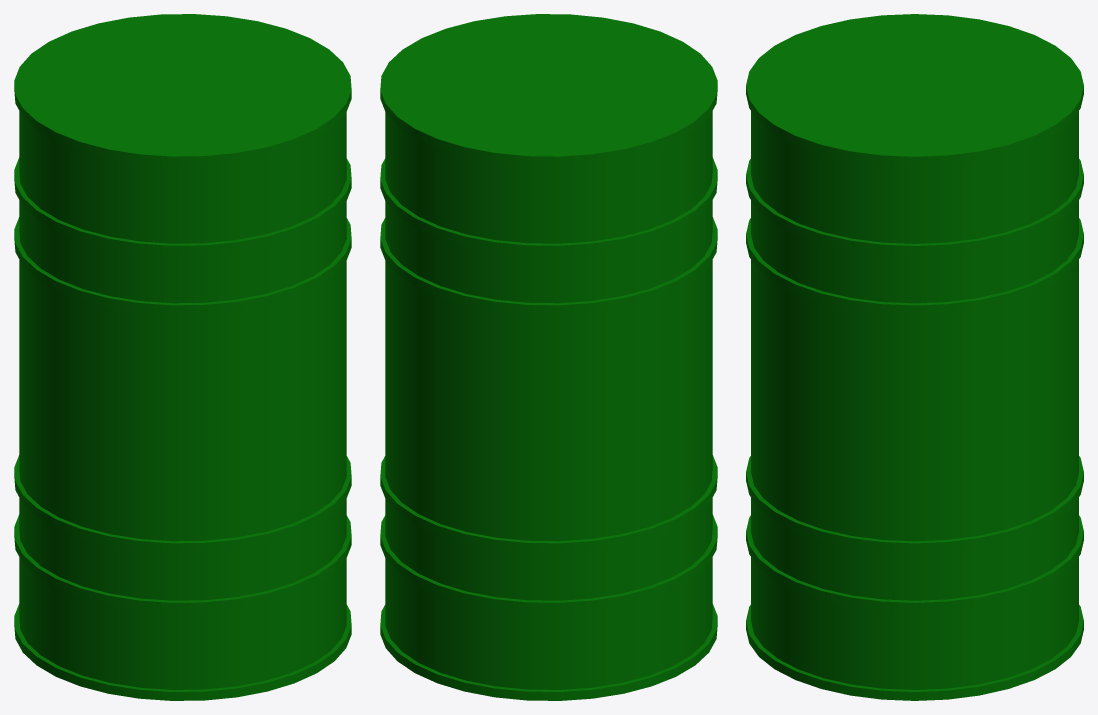
The model's file is Image-1710907665428-2280398615056_OIL-BARREL.fbx.
The picture shows the model from 3 angles, left to right: view 1: azimuth 30°, elevation 25°; view 2: azimuth 150°, elevation 25°; view 3: azimuth 270°, elevation 25°; orthographic projection.
Visible parts, largest first — view 1: CYLINDER 7 of EQUIPMENT /OIL-BARREL, CYLINDER 2 of EQUIPMENT /OIL-BARREL, CYLINDER 6 of EQUIPMENT /OIL-BARREL, CYLINDER 4 of EQUIPMENT /OIL-BARREL, CYLINDER 1 of EQUIPMENT /OIL-BARREL, CYLINDER 3 of EQUIPMENT /OIL-BARREL, CYLINDER 5 of EQUIPMENT /OIL-BARREL; view 2: CYLINDER 7 of EQUIPMENT /OIL-BARREL, CYLINDER 2 of EQUIPMENT /OIL-BARREL, CYLINDER 6 of EQUIPMENT /OIL-BARREL, CYLINDER 4 of EQUIPMENT /OIL-BARREL, CYLINDER 1 of EQUIPMENT /OIL-BARREL, CYLINDER 3 of EQUIPMENT /OIL-BARREL, CYLINDER 5 of EQUIPMENT /OIL-BARREL; view 3: CYLINDER 7 of EQUIPMENT /OIL-BARREL, CYLINDER 2 of EQUIPMENT /OIL-BARREL, CYLINDER 4 of EQUIPMENT /OIL-BARREL, CYLINDER 5 of EQUIPMENT /OIL-BARREL, CYLINDER 3 of EQUIPMENT /OIL-BARREL, CYLINDER 6 of EQUIPMENT /OIL-BARREL, CYLINDER 1 of EQUIPMENT /OIL-BARREL.
Part boxes in pixels (x1=…): CYLINDER 7 of EQUIPMENT /OIL-BARREL: x1=19, y1=111, x2=346, y2=689; CYLINDER 2 of EQUIPMENT /OIL-BARREL: x1=14, y1=14, x2=351, y2=165; CYLINDER 6 of EQUIPMENT /OIL-BARREL: x1=14, y1=157, x2=351, y2=254; CYLINDER 4 of EQUIPMENT /OIL-BARREL: x1=14, y1=514, x2=351, y2=611; CYLINDER 1 of EQUIPMENT /OIL-BARREL: x1=14, y1=604, x2=351, y2=700; CYLINDER 3 of EQUIPMENT /OIL-BARREL: x1=14, y1=455, x2=351, y2=552; CYLINDER 5 of EQUIPMENT /OIL-BARREL: x1=14, y1=217, x2=351, y2=314; CYLINDER 7 of EQUIPMENT /OIL-BARREL: x1=385, y1=111, x2=712, y2=689; CYLINDER 2 of EQUIPMENT /OIL-BARREL: x1=380, y1=14, x2=717, y2=165; CYLINDER 6 of EQUIPMENT /OIL-BARREL: x1=380, y1=157, x2=717, y2=254; CYLINDER 4 of EQUIPMENT /OIL-BARREL: x1=380, y1=514, x2=717, y2=611; CYLINDER 1 of EQUIPMENT /OIL-BARREL: x1=380, y1=604, x2=717, y2=700; CYLINDER 3 of EQUIPMENT /OIL-BARREL: x1=380, y1=455, x2=717, y2=552; CYLINDER 5 of EQUIPMENT /OIL-BARREL: x1=380, y1=217, x2=717, y2=314; CYLINDER 7 of EQUIPMENT /OIL-BARREL: x1=751, y1=111, x2=1078, y2=689; CYLINDER 2 of EQUIPMENT /OIL-BARREL: x1=746, y1=14, x2=1083, y2=165; CYLINDER 4 of EQUIPMENT /OIL-BARREL: x1=746, y1=515, x2=1083, y2=611; CYLINDER 5 of EQUIPMENT /OIL-BARREL: x1=746, y1=218, x2=1083, y2=314; CYLINDER 3 of EQUIPMENT /OIL-BARREL: x1=746, y1=456, x2=1083, y2=552; CYLINDER 6 of EQUIPMENT /OIL-BARREL: x1=746, y1=159, x2=1083, y2=254; CYLINDER 1 of EQUIPMENT /OIL-BARREL: x1=746, y1=605, x2=1083, y2=700.
Bounding box in the file's own units: 0.515 × 0.515 × 0.915.
